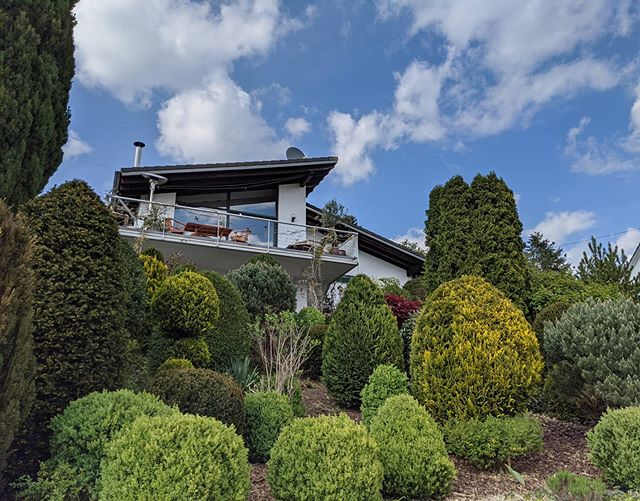building: (132, 154, 405, 272)
sky: (105, 1, 640, 164)
tree: (1, 187, 151, 497), (1, 1, 95, 192), (422, 288, 543, 423), (428, 162, 522, 331), (550, 284, 640, 443), (113, 397, 245, 501), (322, 259, 414, 401), (143, 274, 246, 384), (366, 396, 457, 499), (276, 413, 379, 501)
